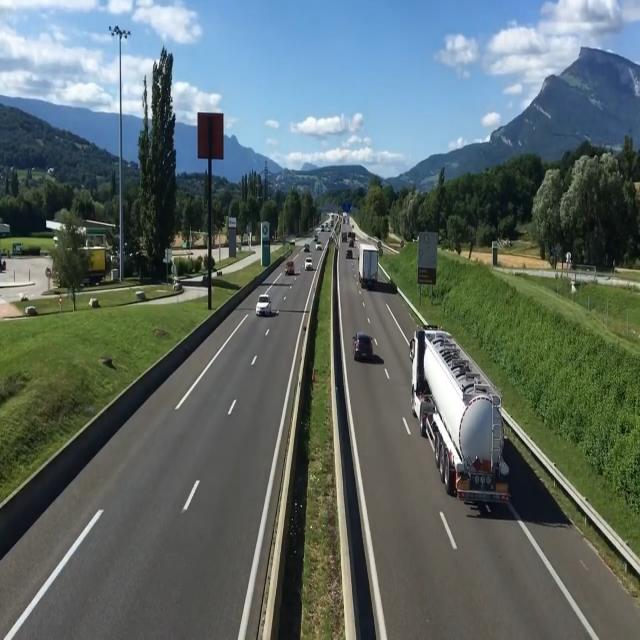car: (352, 328, 377, 369), (254, 282, 279, 321), (285, 255, 296, 280), (305, 253, 314, 280)
truck: (357, 241, 381, 291)
